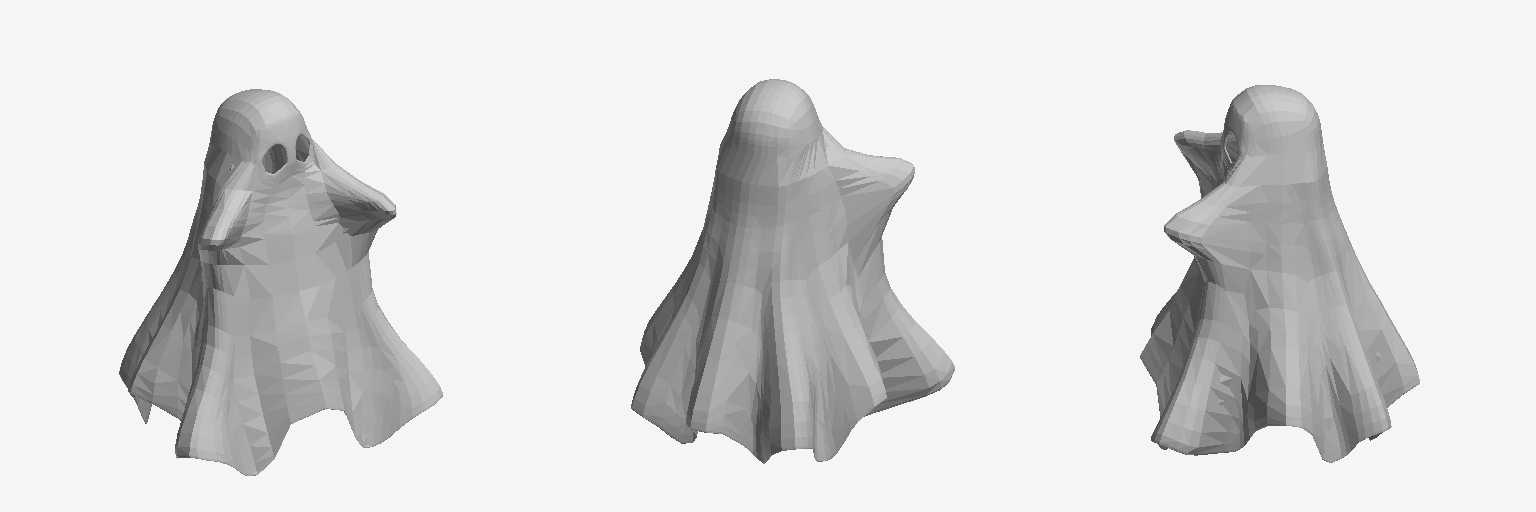
The picture shows the model from 3 angles: view 1: azimuth 30°, elevation 25°; view 2: azimuth 150°, elevation 25°; view 3: azimuth 270°, elevation 25°; orthographic projection.
Parts seen in each view (by area): view 1: youlinguu2:Group3 walk1; view 2: youlinguu2:Group3 walk1; view 3: youlinguu2:Group3 walk1.
Part boxes in pixels (x1,y1,x2,y2): youlinguu2:Group3 walk1: (119,89,442,475); youlinguu2:Group3 walk1: (631,79,954,463); youlinguu2:Group3 walk1: (1140,85,1419,462).
Bounding box in the file's own units: 32.58 × 39.74 × 30.43.